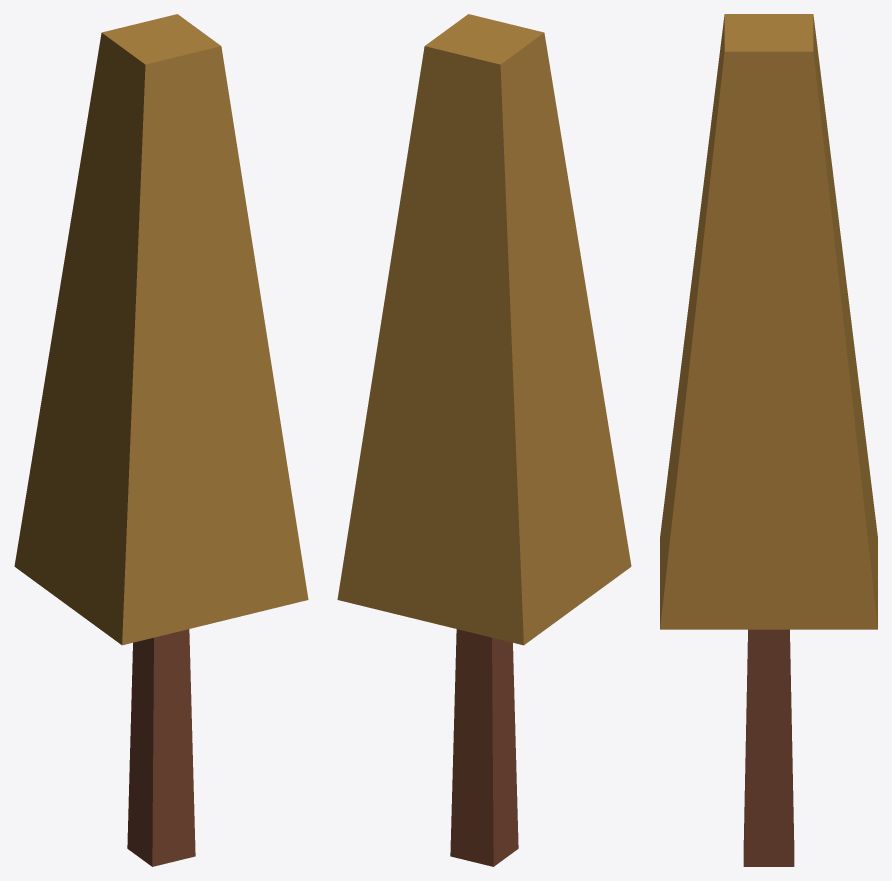
The model's file is Tree_26_autumn_vc.fbx.
3 views of the same model, side by side, from view 1: azimuth 30°, elevation 25°; view 2: azimuth 150°, elevation 25°; view 3: azimuth 270°, elevation 25° (orthographic).
Parts seen in each view (by area): view 1: Tree_26_autumn_vc; view 2: Tree_26_autumn_vc; view 3: Tree_26_autumn_vc.
Boxes of the visible parts, x1,y1,x2,y2 form: Tree_26_autumn_vc: [14, 14, 308, 866]; Tree_26_autumn_vc: [337, 14, 631, 866]; Tree_26_autumn_vc: [660, 14, 877, 866].
Bounding box in the file's own units: 1.64 × 6.85 × 1.64.
